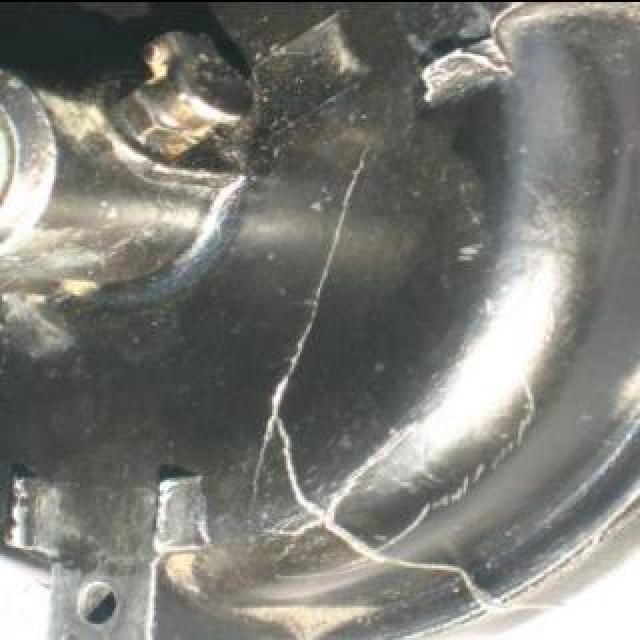crack: (254, 130, 572, 614)
